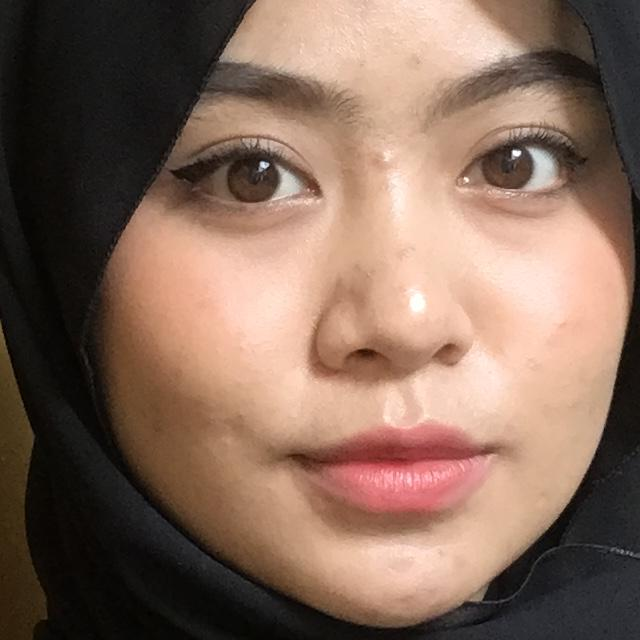kapan: (0, 176, 355, 640)
